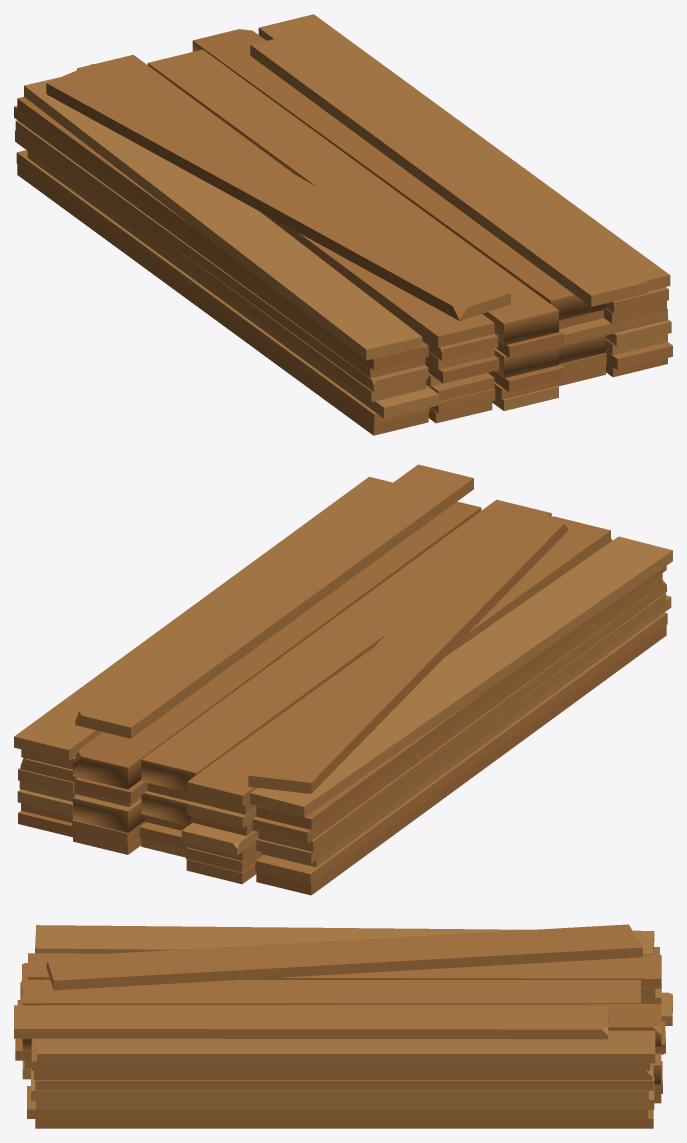
Rendered from Planks_4.fbx.
3 views of the same model, one above another, from view 1: azimuth 30°, elevation 25°; view 2: azimuth 150°, elevation 25°; view 3: azimuth 270°, elevation 25° (orthographic). The views are drawn at different scales.
Parts seen in each view (by area): view 1: Planks_4; view 2: Planks_4; view 3: Planks_4.
Boxes of the visible parts, x1,y1,x2,y2 form: Planks_4: (14, 14, 672, 435); Planks_4: (14, 464, 672, 895); Planks_4: (14, 924, 672, 1128).
Bounding box in the file's own units: 133 × 41.32 × 288.
